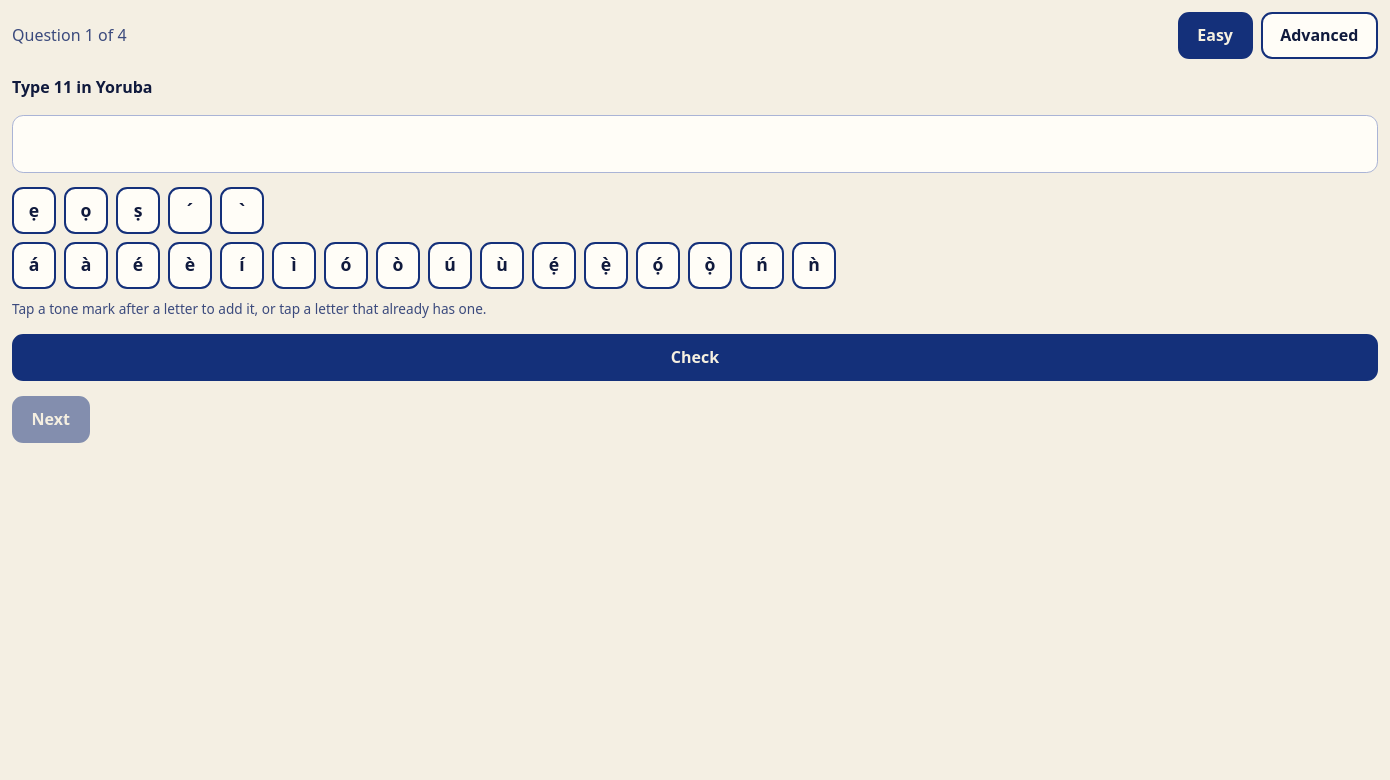
Test: NumbersPractice › marks the right answer and shows how the number is built
This screenshot has width=1390, height=780.
Type "ọ̀kanlá" into the field with test id "numbers-input".
click(695, 144); type("ọ̀kanlá")  # box 12,115 -> 1378,173
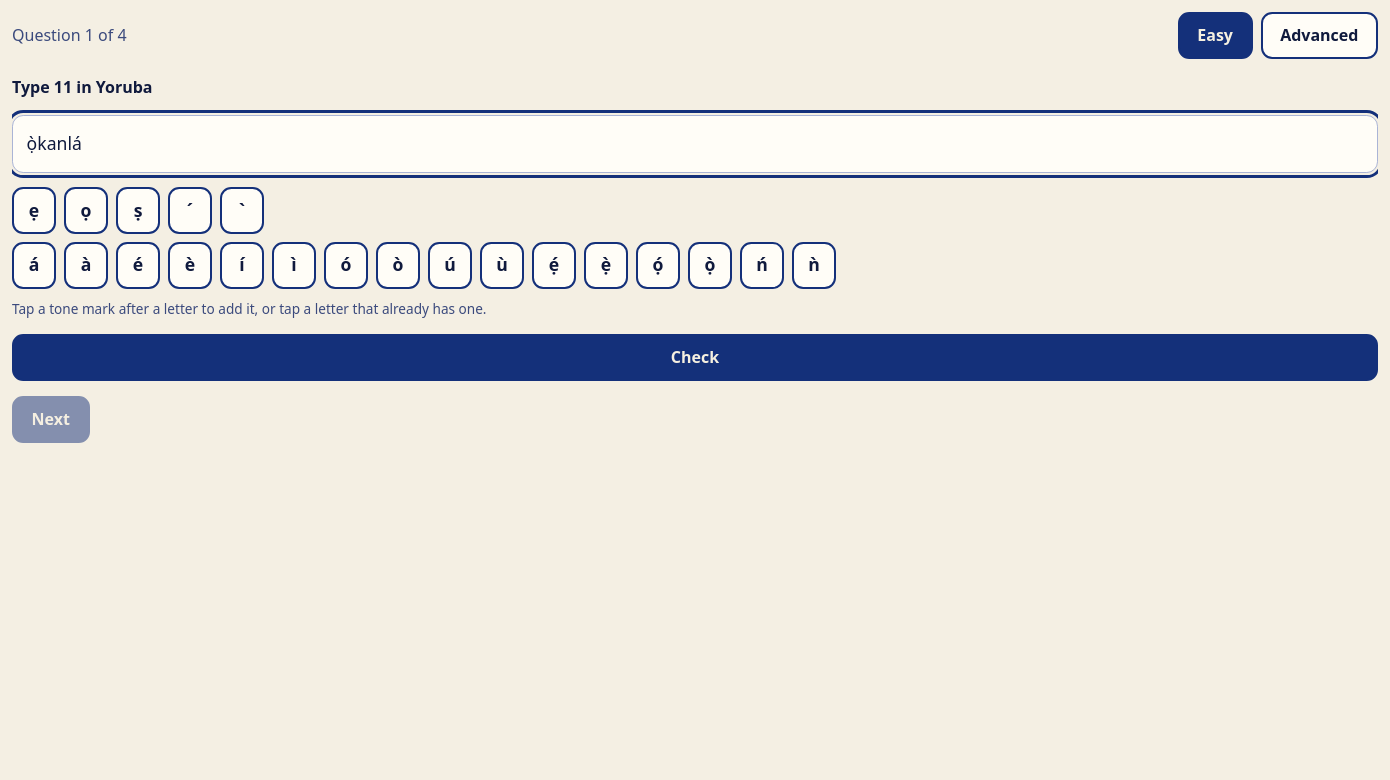
Click the button "Check".
click(695, 358)  # box 12,334 -> 1378,381
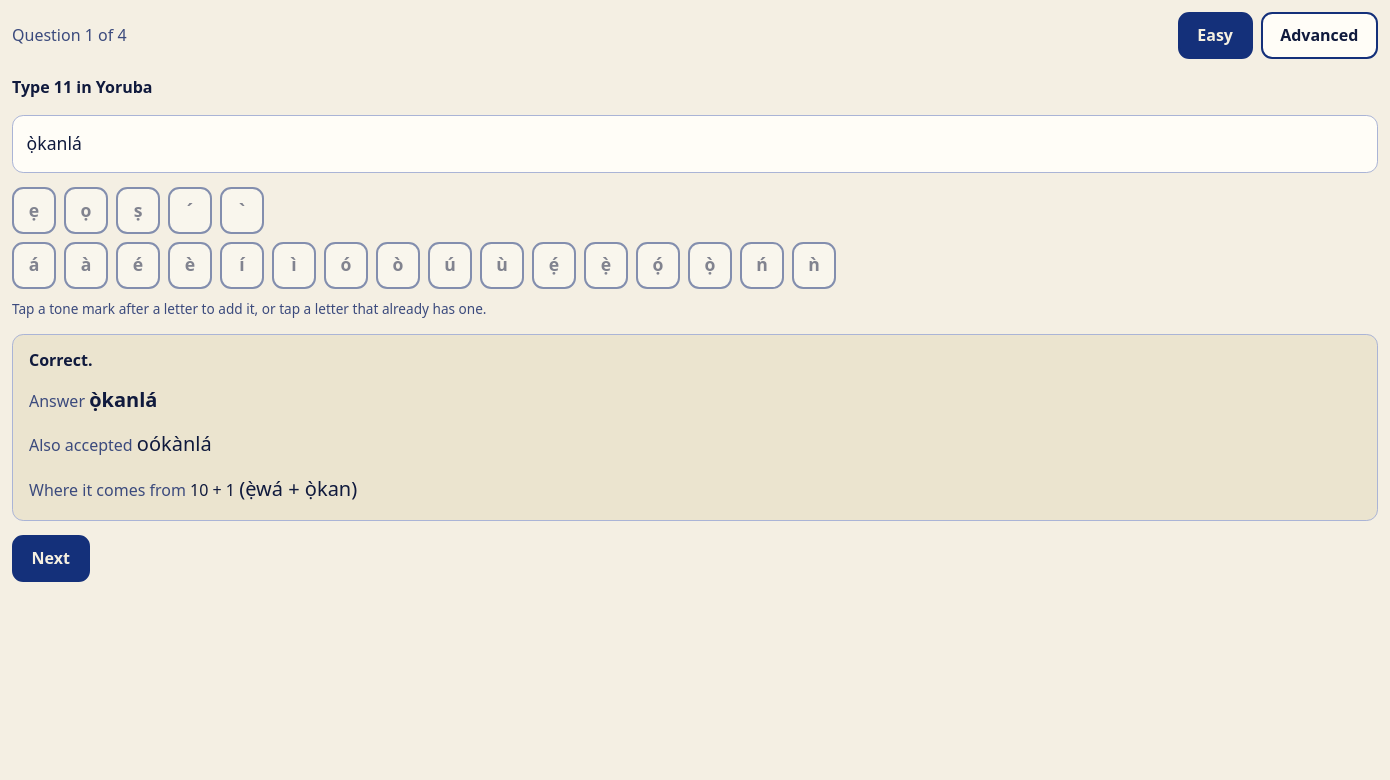
expect the field with test id "numbers-input" is disabled: met, box 12,115 -> 1378,173
expect the message with test id "numbers-result" shows "Correct.": met, box 29,349 -> 92,371
expect the message with test id "numbers-result" shows "10 + 1": met, box 190,479 -> 235,501
